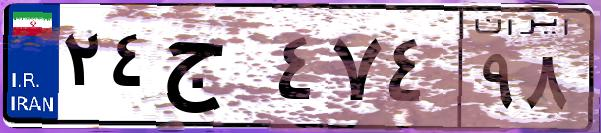2: (57, 26, 110, 100)
4: (270, 28, 330, 110), (385, 28, 445, 110), (110, 28, 158, 98)
7: (330, 28, 385, 110)
8: (525, 38, 570, 115)
9: (475, 38, 525, 113)
ج: (158, 20, 270, 120)
